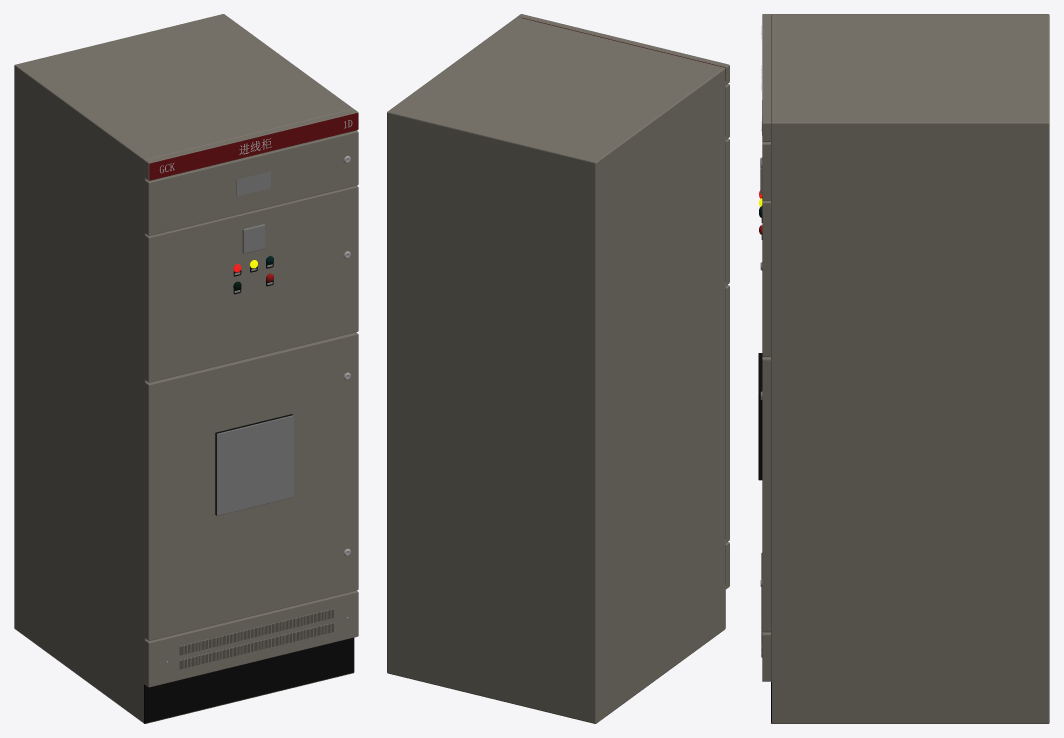
3 views of the same model, side by side, from view 1: azimuth 30°, elevation 25°; view 2: azimuth 150°, elevation 25°; view 3: azimuth 270°, elevation 25° (orthographic). The views are drawn at different scales.
Visible parts, largest first — view 1: Box001; view 2: Box001; view 3: Box001.
Part boxes in pixels (x1,y1,x2,y2): Box001: [14, 14, 358, 723]; Box001: [387, 14, 729, 723]; Box001: [758, 14, 1049, 723].
Size of the model in its own units: 90 by 231 by 101.
